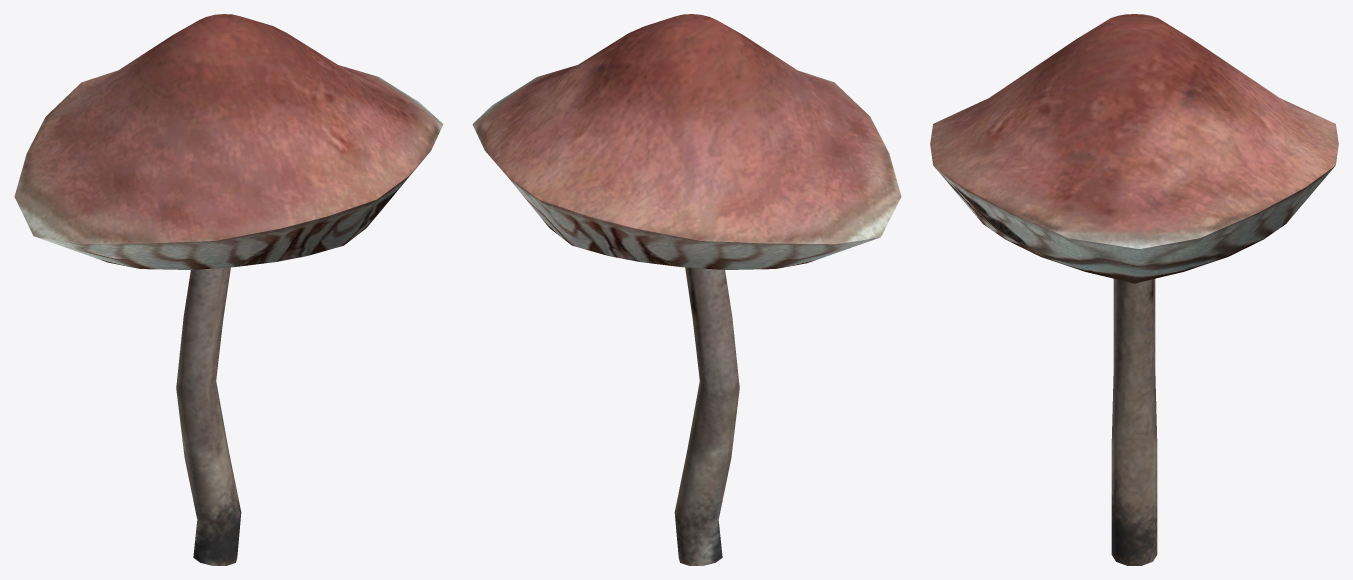
Rendered from PW_Plant_Mushroom_01_01.glb.
The picture shows the model from 3 angles, left to right: view 1: azimuth 30°, elevation 25°; view 2: azimuth 150°, elevation 25°; view 3: azimuth 270°, elevation 25°; orthographic projection.
Visible parts, largest first — view 1: PW_Plants_Mushrooms_1_LOD0; view 2: PW_Plants_Mushrooms_1_LOD0; view 3: PW_Plants_Mushrooms_1_LOD0.
Boxes of the visible parts, <box> form: PW_Plants_Mushrooms_1_LOD0: <box>14,14,443,565</box>; PW_Plants_Mushrooms_1_LOD0: <box>472,14,901,565</box>; PW_Plants_Mushrooms_1_LOD0: <box>930,14,1338,565</box>.
Size of the model in its own units: 0.1834 by 0.2411 by 0.1661.
1 material, 1 textured.
